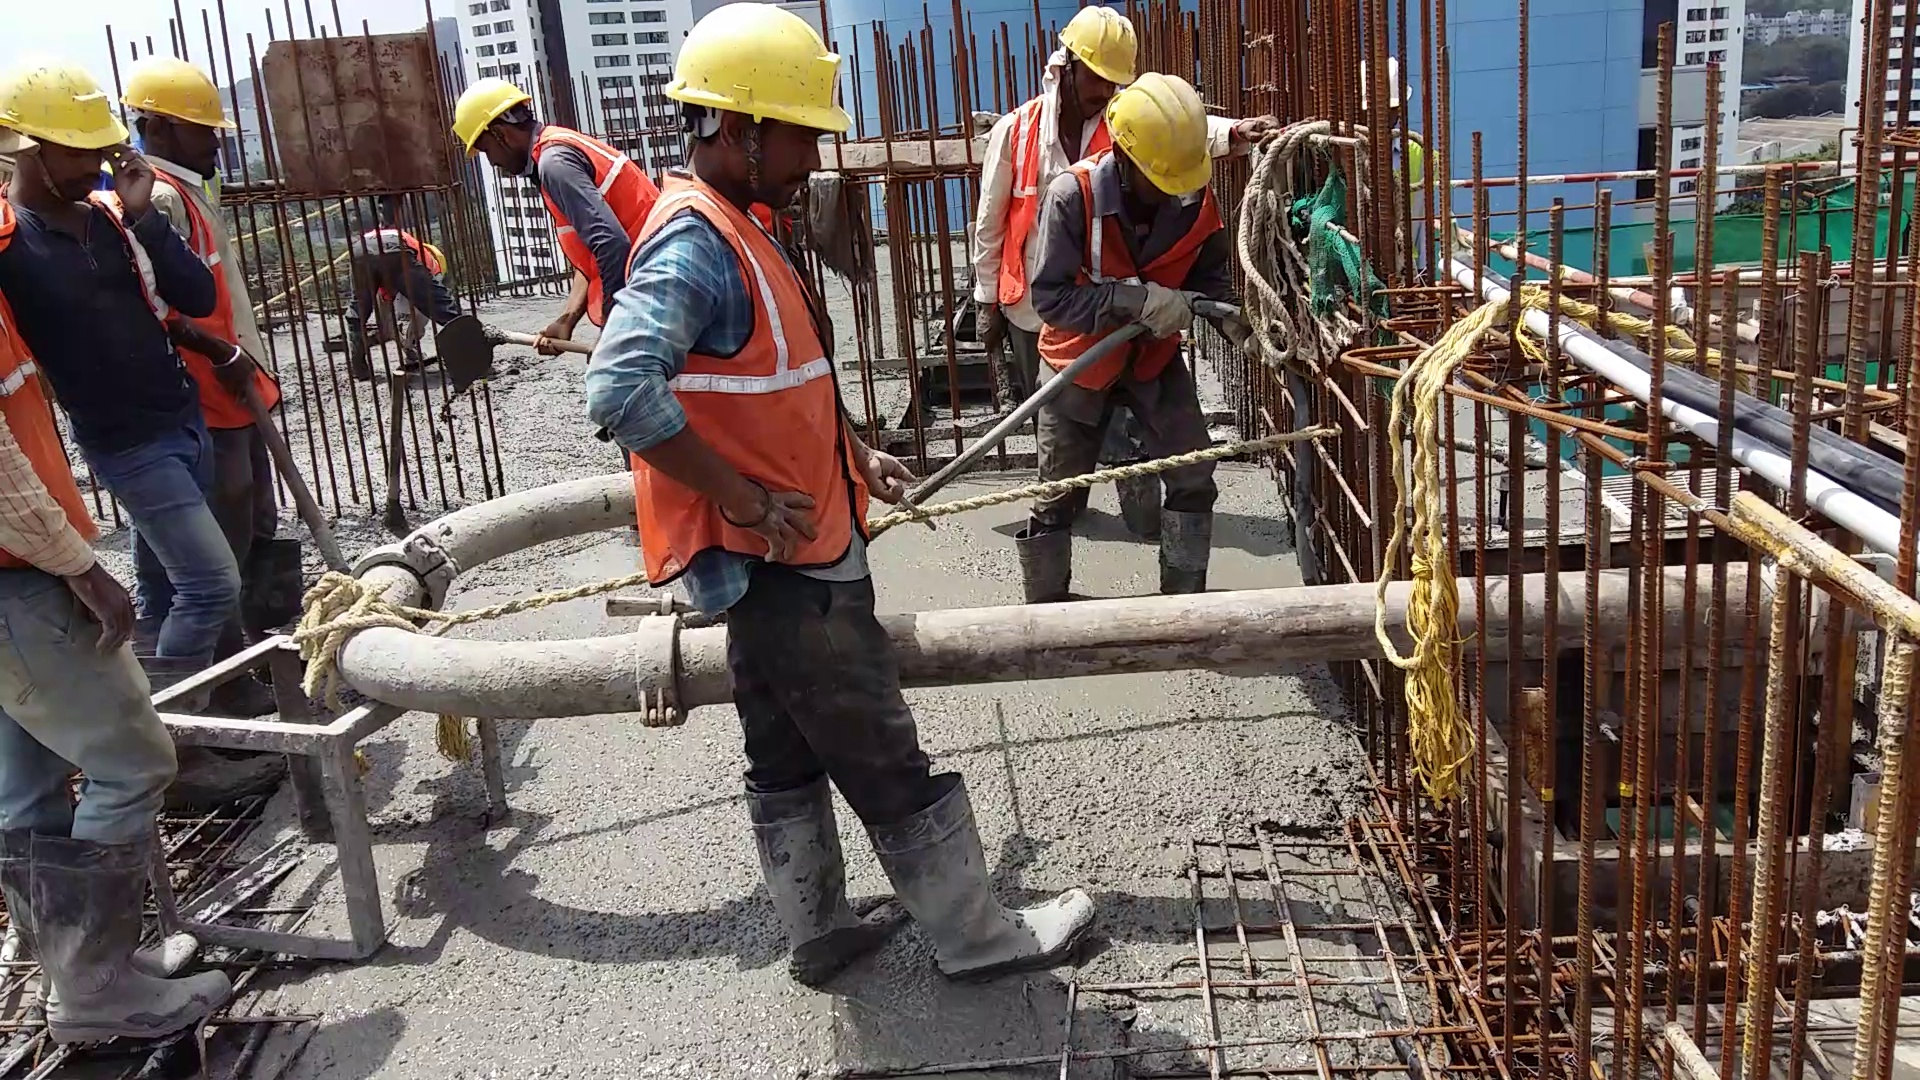SAFE: (644, 7, 860, 579), (1033, 61, 1222, 402), (446, 73, 659, 305), (128, 44, 253, 425)
